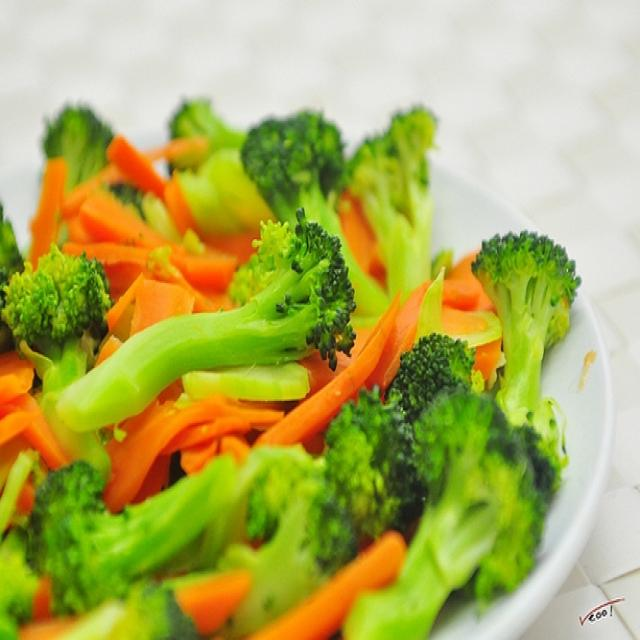蔬菜料理: (18, 63, 579, 618)
